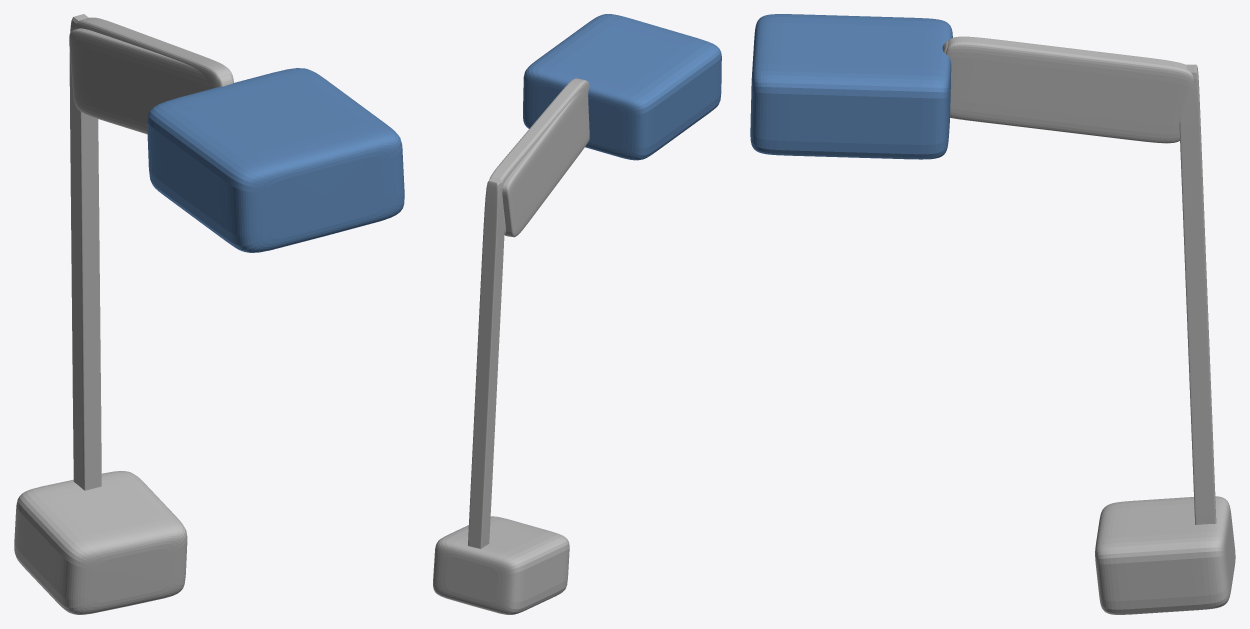
File: edited_abstraction_categorized.glb
3 renders of one model, left to right at view 1: azimuth 30°, elevation 25°; view 2: azimuth 150°, elevation 25°; view 3: azimuth 270°, elevation 25°, orthographic. The views are drawn at different scales.
Visible parts, largest first — view 1: world; view 2: world; view 3: world.
Part boxes in pixels (bbox=[...]): world: bbox=[14, 14, 404, 614]; world: bbox=[433, 14, 721, 614]; world: bbox=[750, 14, 1235, 614].
Bounding box in the file's own units: 0.2295 × 0.7578 × 0.5955.
